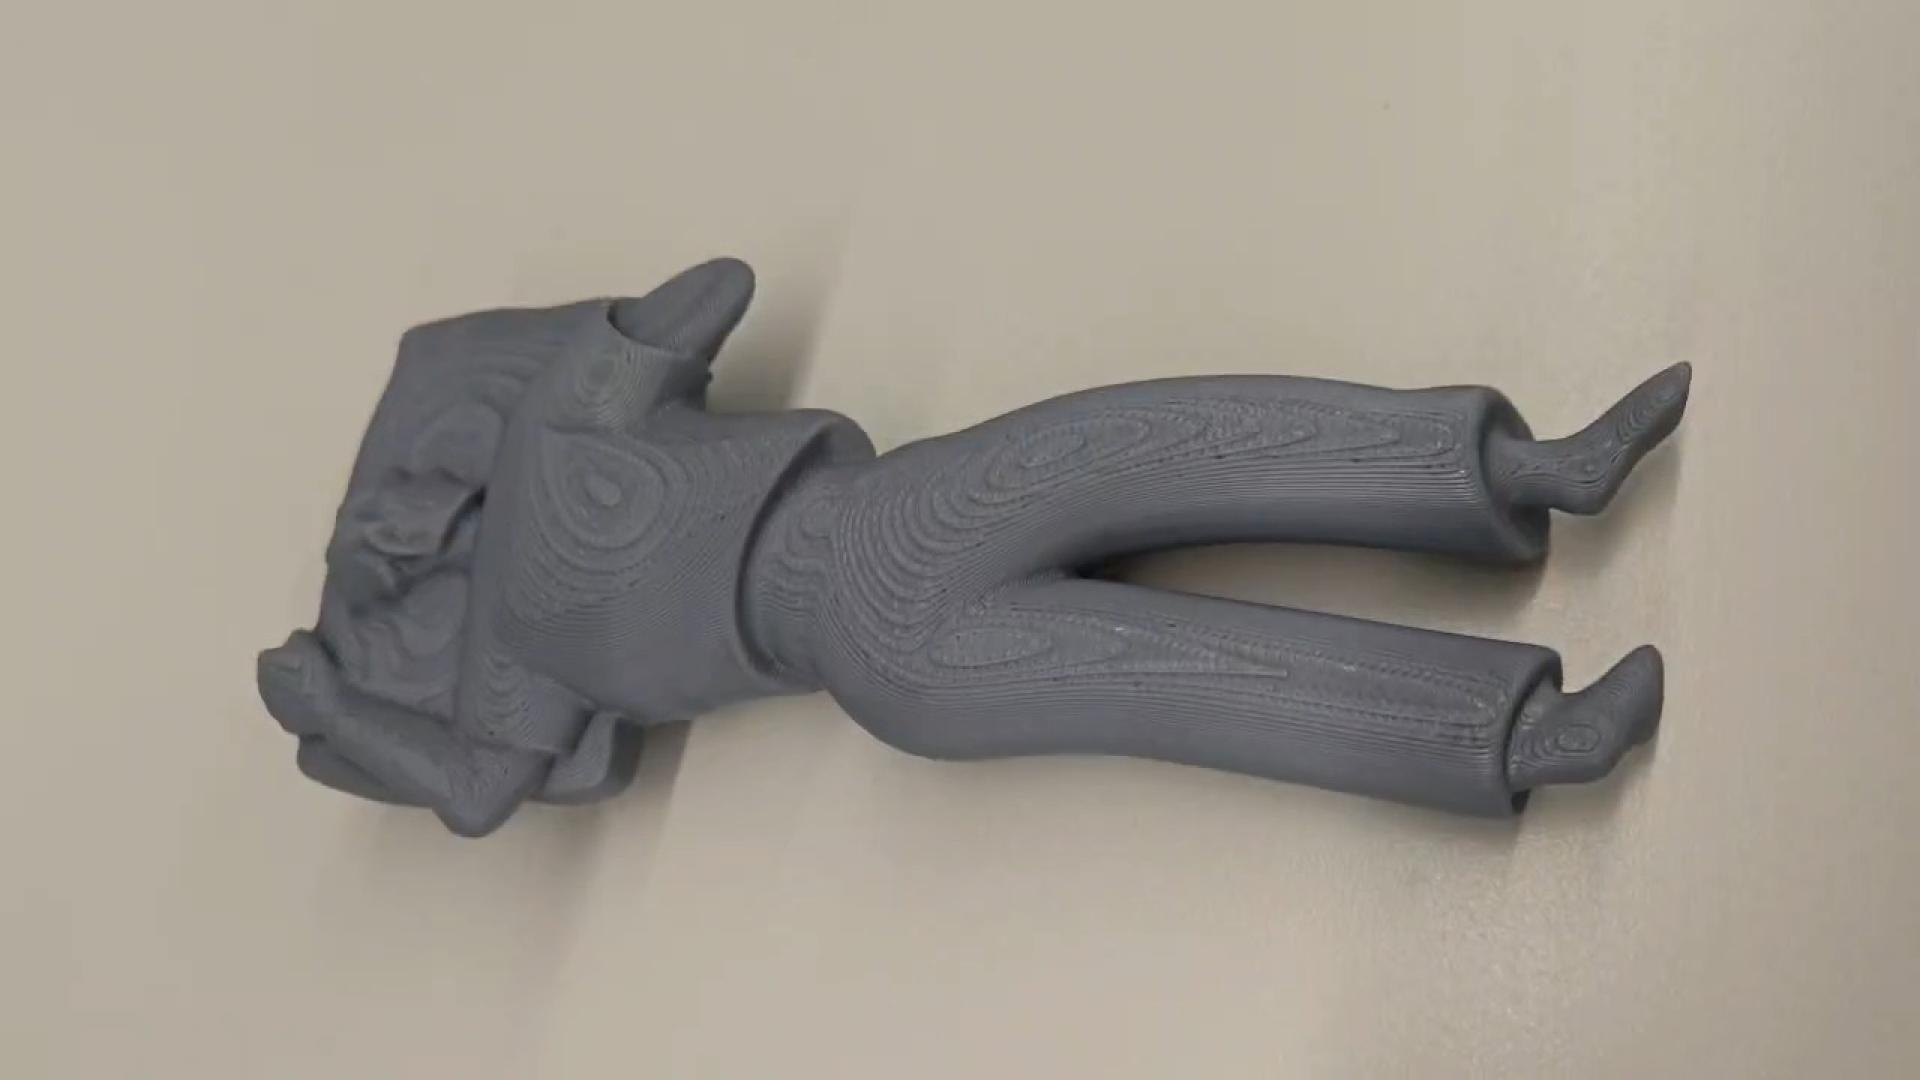Bad-style: (257, 245, 1701, 847)
